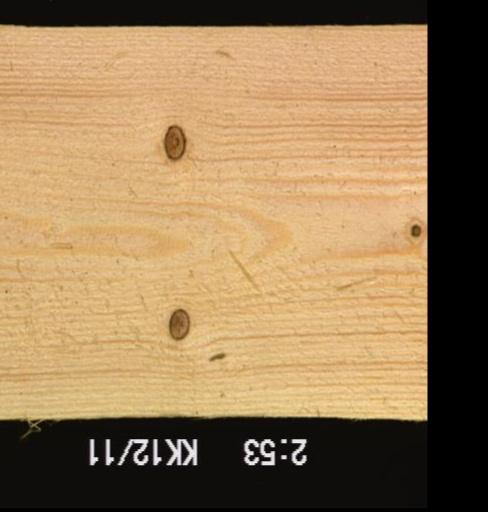dry_knot: (161, 124, 188, 162), (168, 306, 191, 342), (405, 215, 423, 245)
